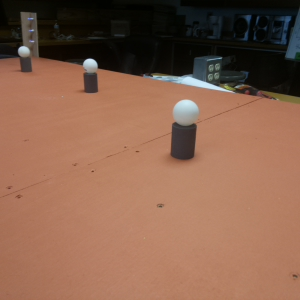corner: (22, 12, 40, 54)
obstacle: (171, 100, 196, 162), (83, 58, 98, 94), (18, 45, 31, 73)
